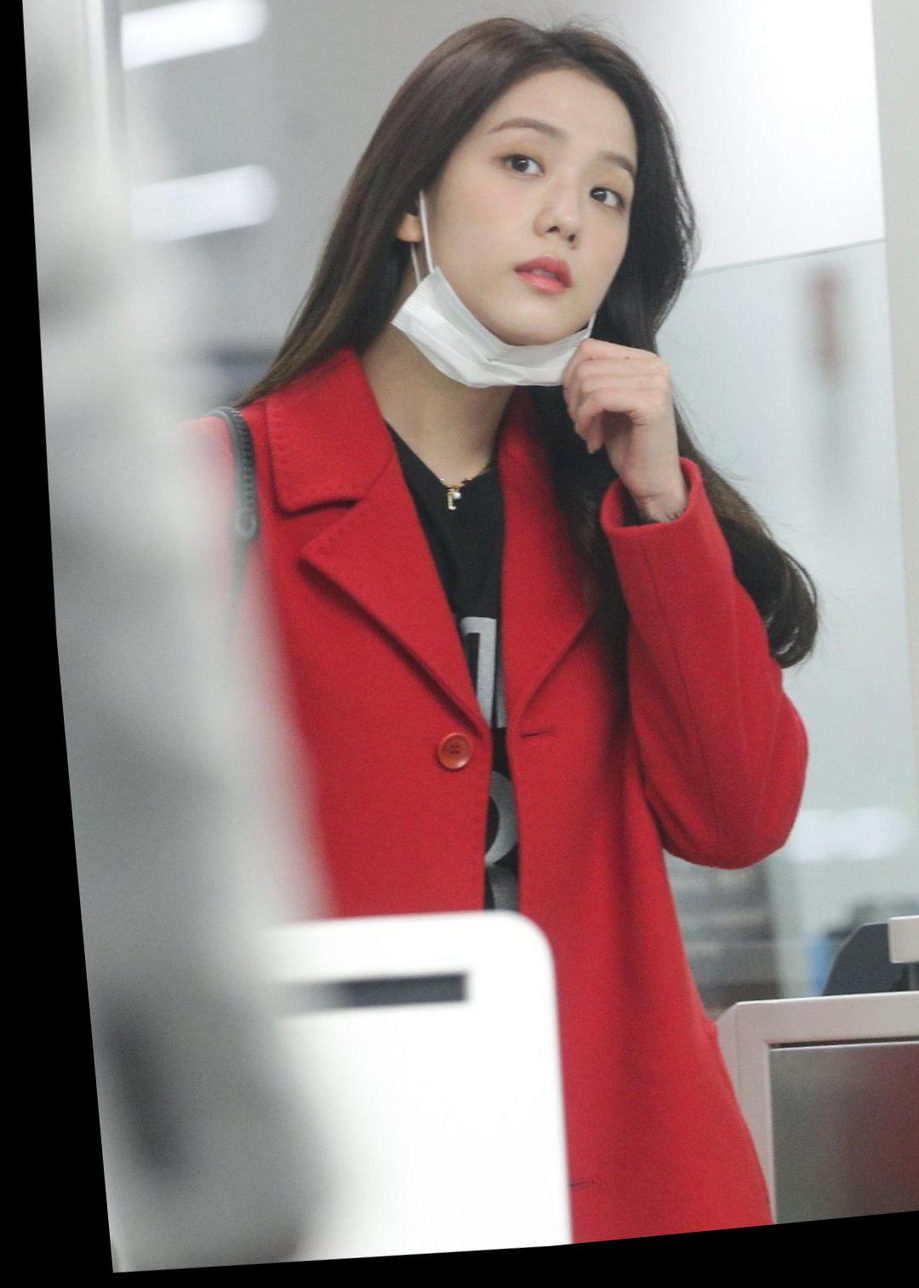WRONG: (397, 100, 654, 381)
